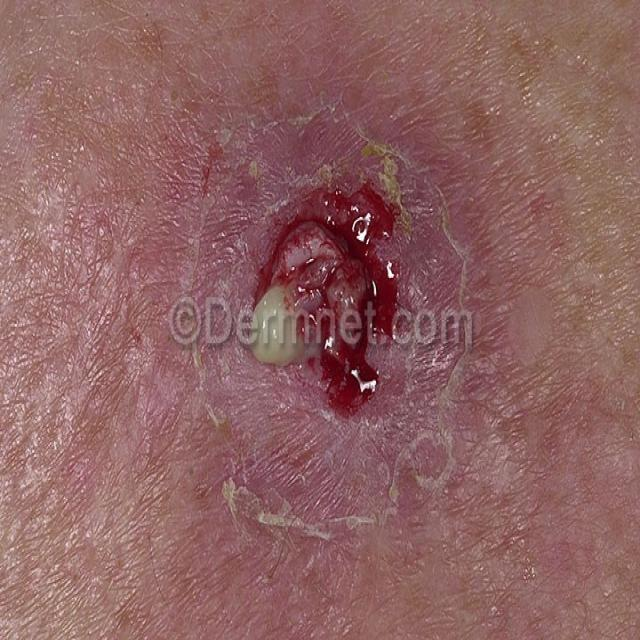Eczema: (178, 115, 463, 522)
